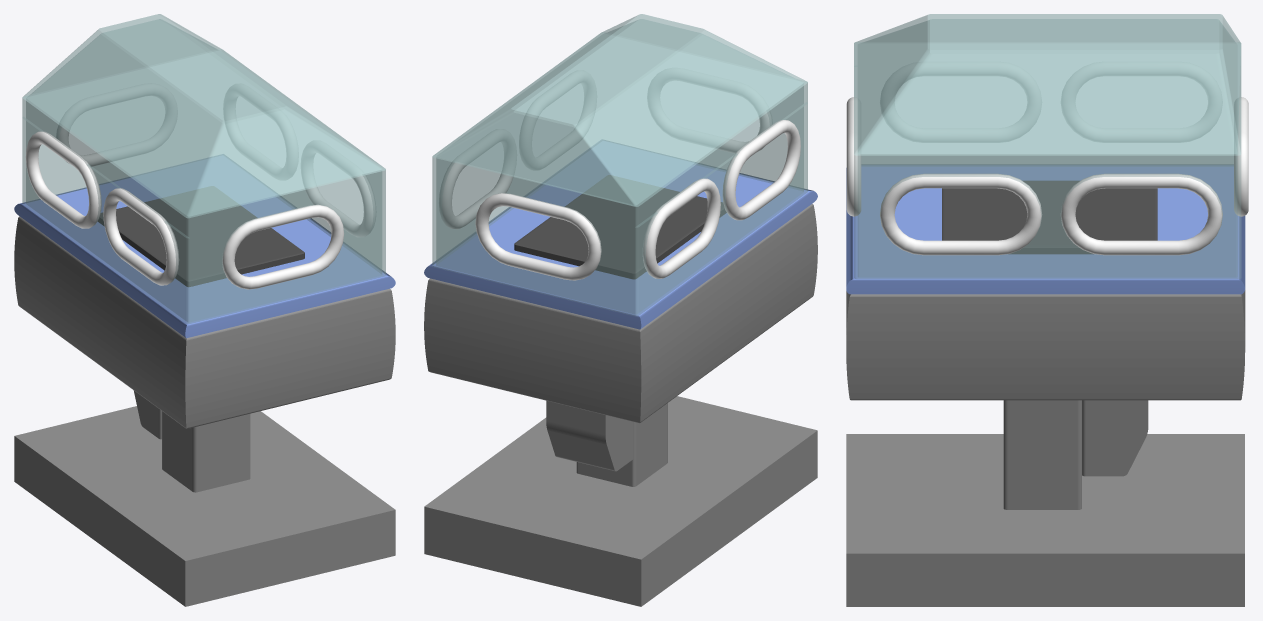
Rendered from Incubadora.fbx.
3 renders of one model, left to right at view 1: azimuth 30°, elevation 25°; view 2: azimuth 150°, elevation 25°; view 3: azimuth 270°, elevation 25°, orthographic. The views are drawn at different scales.
Parts seen in each view (by area): view 1: Group1, Group10, Group8, Group12, Group11, Group9, Group7, Group6, Group5, Group4, Group3, Group2; view 2: Group1, Group10, Group8, Group12, Group11, Group9, Group6, Group7, Group4, Group5, Group2, Group3; view 3: Group1, Group10, Group8, Group12, Group9, Group11, Group2, Group3, Group5, Group4, Group6, Group7.
Boxes of the visible parts, x1=… form: Group1: x1=22, y1=14, x2=385, y2=323; Group10: x1=14, y1=406, x2=395, y2=606; Group8: x1=14, y1=216, x2=395, y2=428; Group12: x1=14, y1=154, x2=395, y2=338; Group11: x1=98, y1=186, x2=304, y2=286; Group9: x1=133, y1=390, x2=250, y2=492; Group7: x1=222, y1=204, x2=344, y2=289; Group6: x1=56, y1=83, x2=177, y2=166; Group5: x1=103, y1=188, x2=178, y2=285; Group4: x1=25, y1=131, x2=101, y2=228; Group3: x1=223, y1=84, x2=298, y2=179; Group2: x1=301, y1=141, x2=375, y2=236; Group1: x1=432, y1=14, x2=807, y2=315; Group10: x1=424, y1=396, x2=817, y2=606; Group8: x1=424, y1=204, x2=817, y2=423; Group12: x1=424, y1=140, x2=817, y2=329; Group11: x1=514, y1=175, x2=726, y2=279; Group9: x1=546, y1=400, x2=667, y2=486; Group6: x1=475, y1=193, x2=601, y2=280; Group7: x1=647, y1=68, x2=772, y2=153; Group4: x1=643, y1=178, x2=720, y2=278; Group5: x1=723, y1=120, x2=800, y2=220; Group2: x1=519, y1=71, x2=596, y2=169; Group3: x1=439, y1=129, x2=516, y2=228; Group1: x1=854, y1=14, x2=1241, y2=278; Group10: x1=846, y1=434, x2=1244, y2=606; Group8: x1=846, y1=290, x2=1245, y2=400; Group12: x1=846, y1=165, x2=1245, y2=294; Group9: x1=1003, y1=400, x2=1148, y2=509; Group11: x1=942, y1=181, x2=1157, y2=253; Group2: x1=880, y1=174, x2=1042, y2=255; Group3: x1=1060, y1=174, x2=1222, y2=255; Group5: x1=880, y1=62, x2=1041, y2=142; Group4: x1=1061, y1=62, x2=1222, y2=142; Group6: x1=1234, y1=97, x2=1248, y2=216; Group7: x1=846, y1=97, x2=860, y2=216.
Size of the model in its own units: 0.7689 by 1.54 by 1.09.
